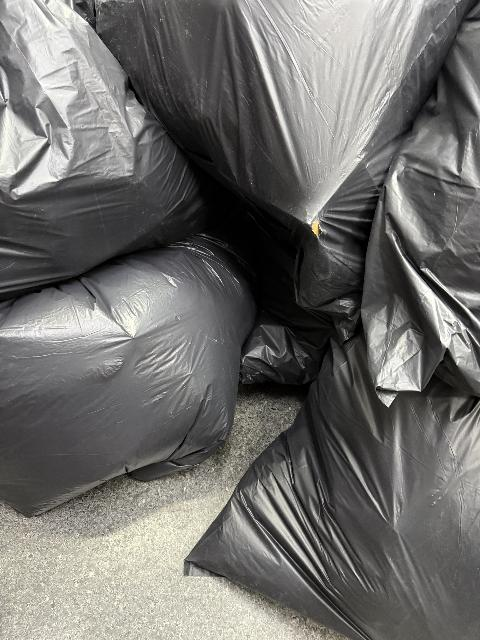Plastik: (121, 1, 458, 251), (201, 351, 480, 640), (0, 250, 259, 524), (0, 0, 175, 271), (362, 38, 480, 389)
